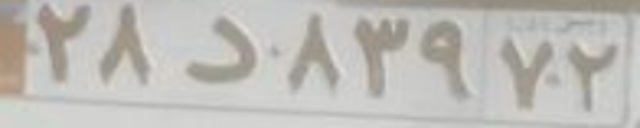2: (37, 2, 90, 83), (566, 37, 618, 111)
3: (351, 15, 410, 97)
7: (492, 36, 554, 109)
8: (283, 12, 340, 92), (100, 3, 151, 85)
9: (415, 19, 471, 101)
dal: (182, 15, 258, 84)
